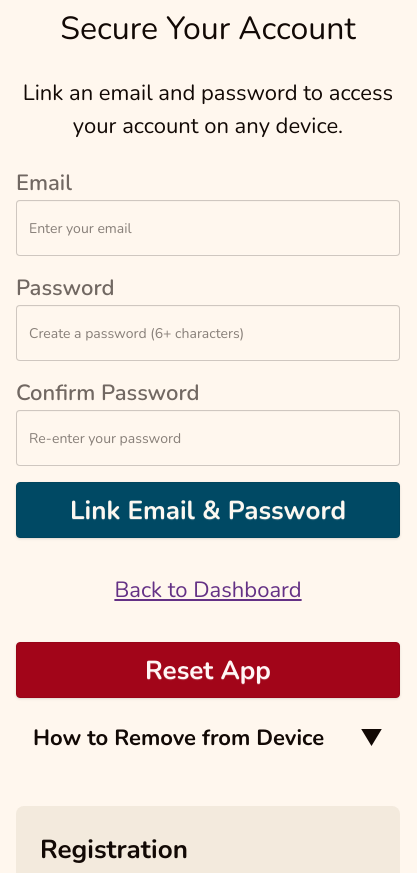
Test: CaregiverAccount › anonymous (not linked) › shows validation error when password too short
This screenshot has width=417, height=873.
Type "test@example.com" into the field labelled "Email".
click(208, 228); type("test@example.com")  # box [16, 200, 400, 256]
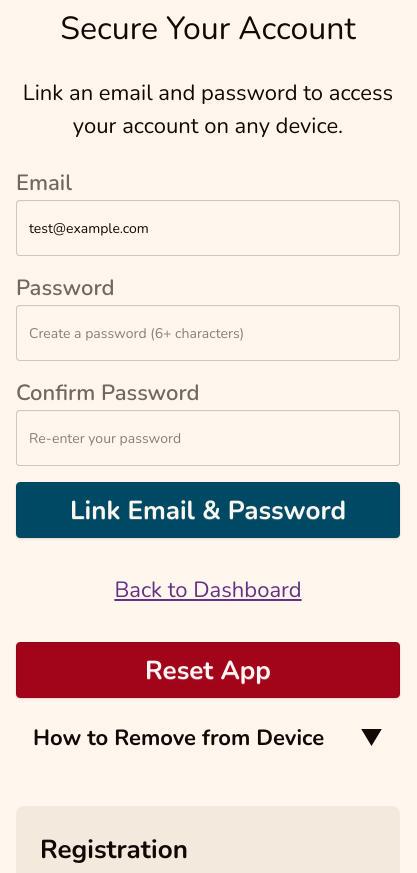
Type "12345" into the password field labelled "Password".
click(208, 333); type("12345")  # box [16, 305, 400, 361]
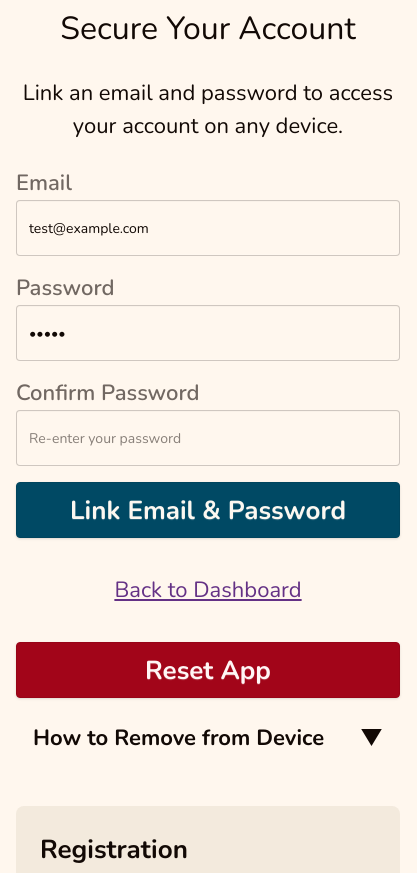
Type "12345" into the password field labelled "Confirm Password".
click(208, 438); type("12345")  # box [16, 410, 400, 466]
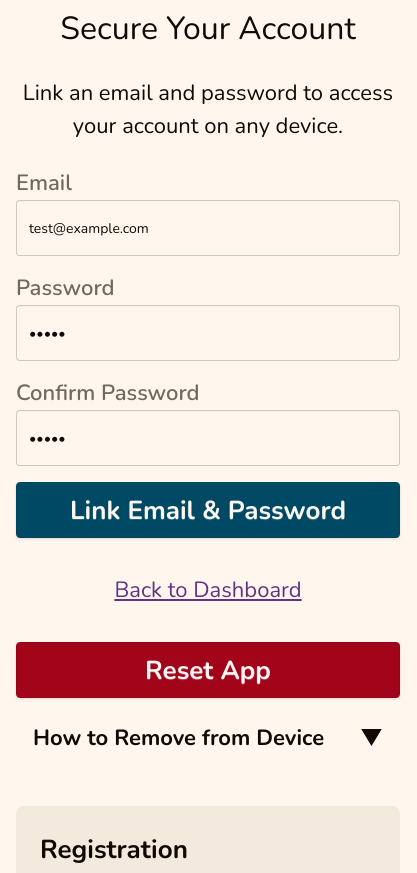
Click the button "Link Email & Password".
click(208, 510)  # box [16, 482, 400, 538]
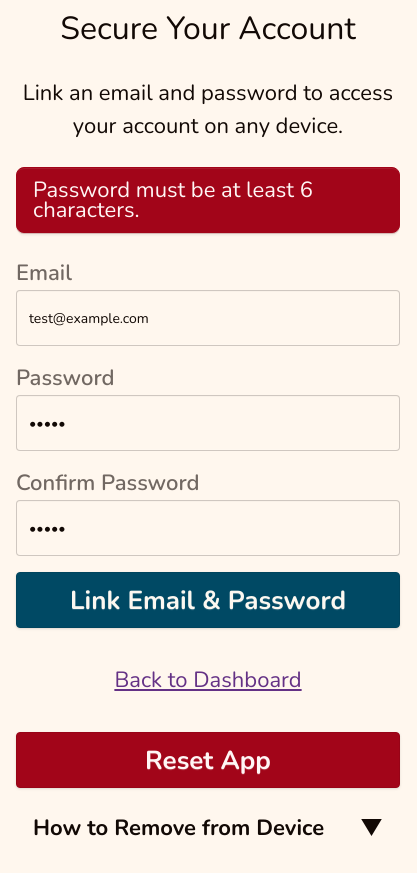
Check: the message shows "at least 6 characters", box [33, 175, 313, 225]
